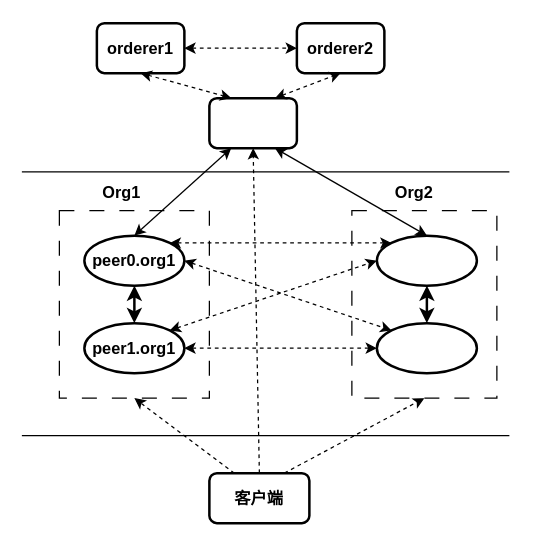
Some shapes in this 533 by 545 pixel diagram are drawn without their labels. Here are the shapes that lost their labels. From the top down, the centre of each, then its label:
At point 253,122: "orderer0".
At point 426,260: "peer0.org2".
At point 426,347: "peer1.org2".
